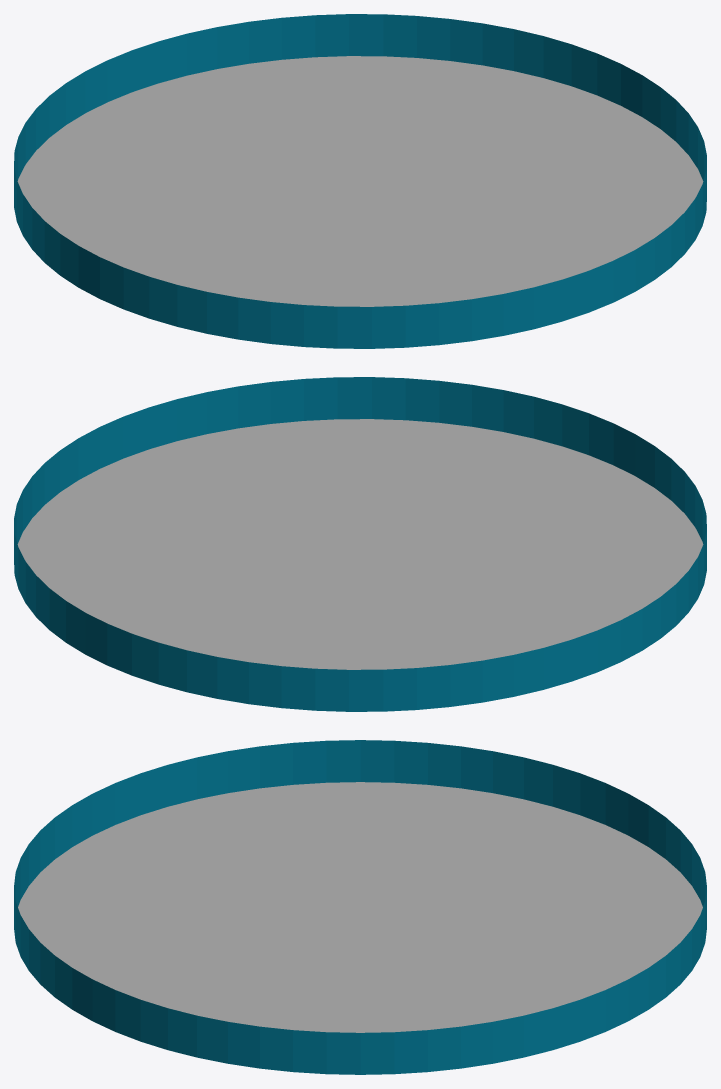
File: SM_ShipyardCityBase.fbx
The picture shows the model from 3 angles, top to bottom: view 1: azimuth 30°, elevation 25°; view 2: azimuth 150°, elevation 25°; view 3: azimuth 270°, elevation 25°; orthographic projection.
Parts seen in each view (by area): view 1: pCylinder15; view 2: pCylinder15; view 3: pCylinder15.
Boxes of the visible parts, x1,y1,x2,y2 form: pCylinder15: [14, 14, 706, 348]; pCylinder15: [14, 377, 706, 711]; pCylinder15: [14, 740, 706, 1074].
Size of the model in its own units: 800000 by 53525 by 800000.
